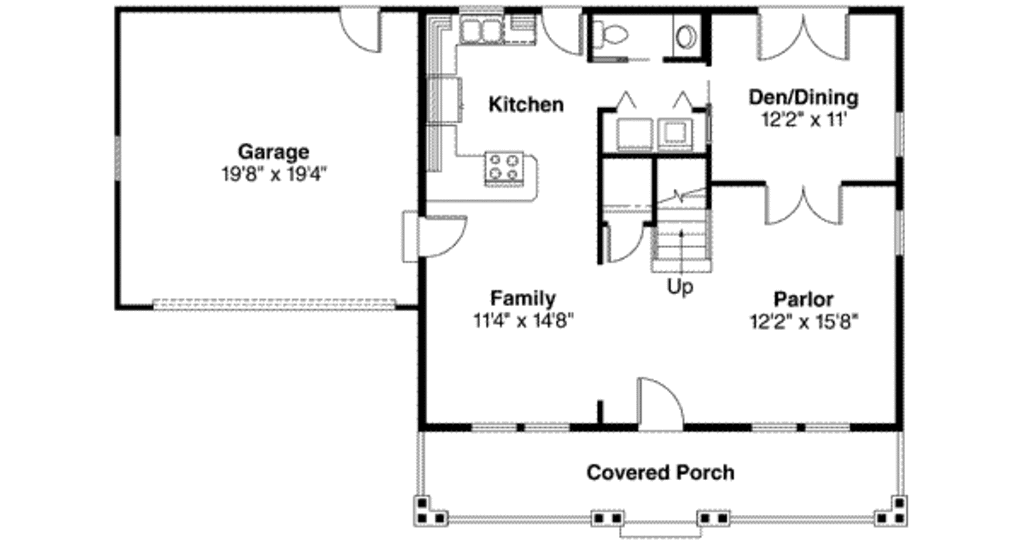door: (753, 8, 861, 69), (761, 180, 845, 230), (401, 209, 470, 268), (631, 373, 691, 431), (335, 2, 386, 52), (542, 4, 586, 59), (600, 217, 649, 261)
large_sink: (585, 12, 633, 55)
small_sink: (661, 13, 705, 61)
stairs: (652, 158, 714, 281)
twin_sink: (458, 9, 510, 48)
window: (888, 110, 912, 167), (526, 414, 570, 439), (891, 208, 908, 255), (474, 420, 521, 436), (752, 419, 795, 435), (805, 418, 828, 431)
